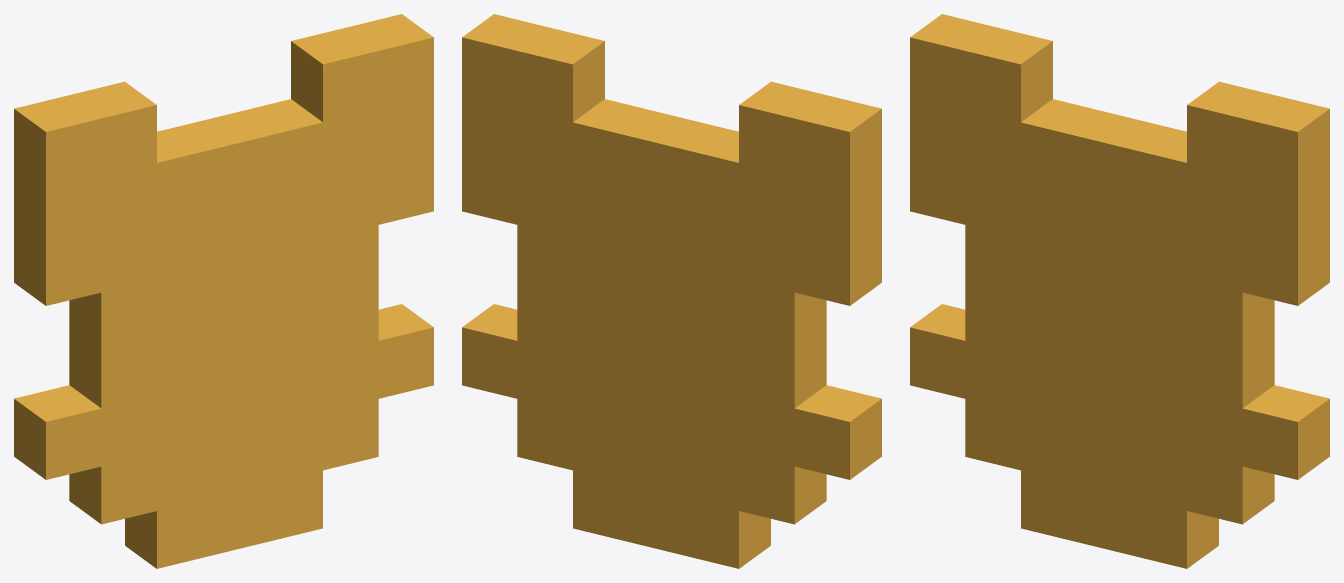
Rendered from Breastplate-Orange.vox.obj.
The picture shows the model from 3 angles, left to right: view 1: azimuth 30°, elevation 25°; view 2: azimuth 150°, elevation 25°; view 3: azimuth 330°, elevation 25°; orthographic projection.
Bounding box in the file's own units: 0.7 × 0.8 × 0.1.
Materials: 1 (1 with a texture image).
